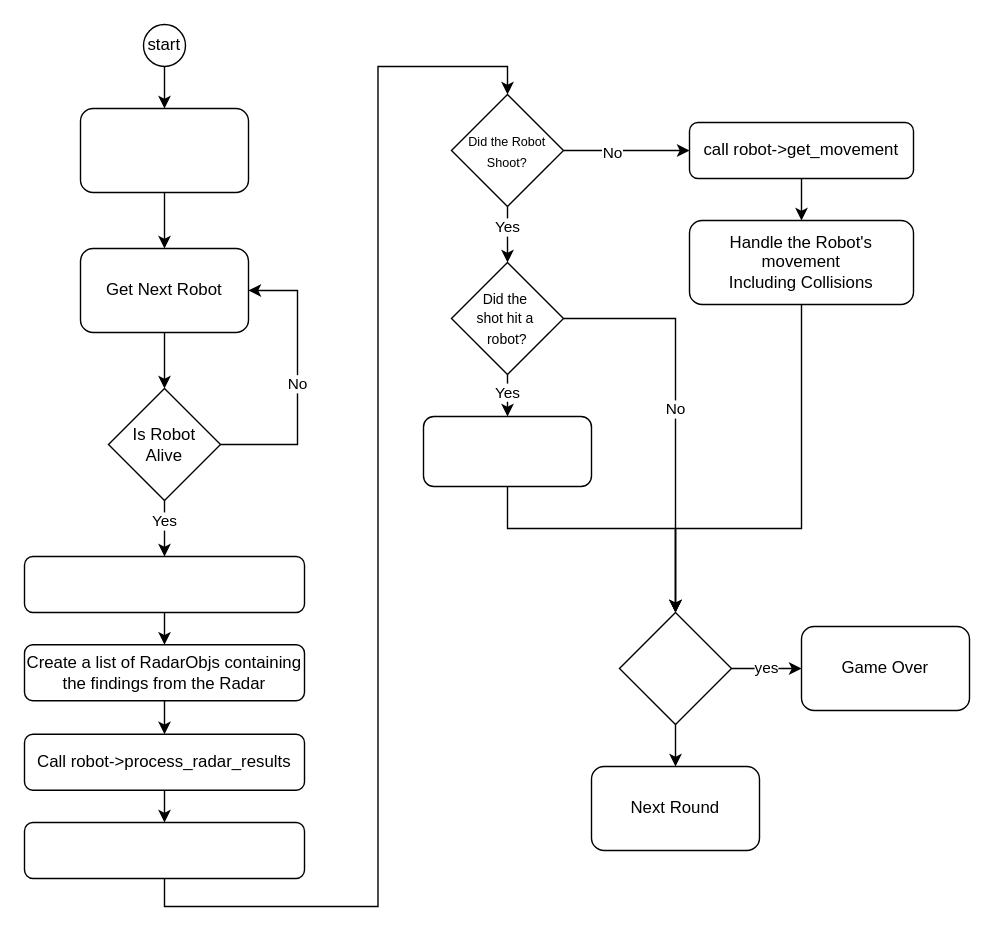
Some shapes in this 994 by 942 pixel diagram are drawn without their labels. Each missing label, with the centre of its shape:
"Apply Damage to the Robot" goes at [507,450].
"Call robot->get_radar_direction" goes at [163,583].
"Call robot->get_shot_location" goes at [163,849].
"Increment Round Number and Start Round" goes at [163,149].
"Is there a Winner?" goes at [675,667].
